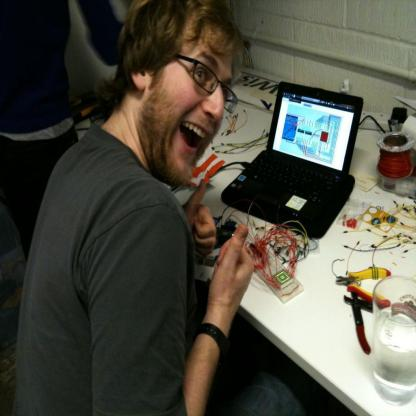board: (220, 79, 362, 238)
